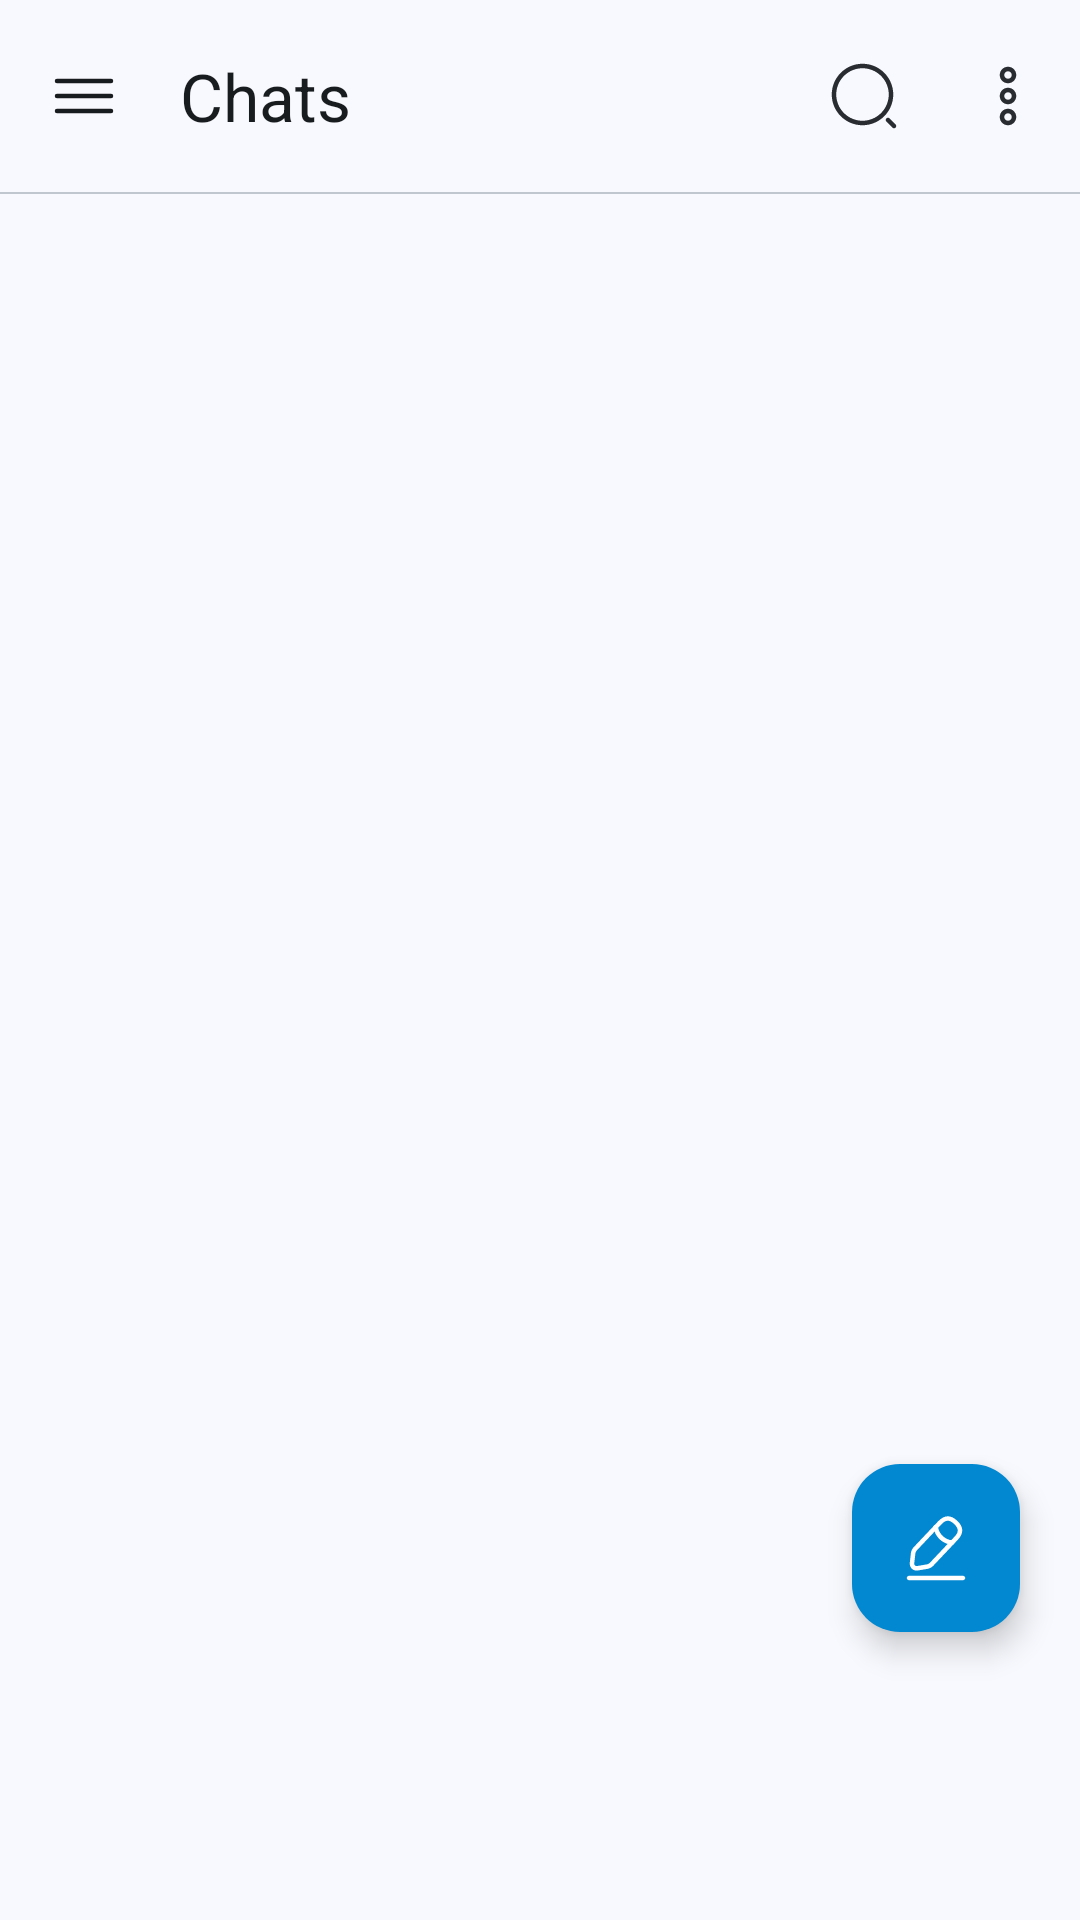

Icon bounding boxes for this 1080px×1920px phone screenshot, format (x1, y1, x2, y2):
New Message: (852, 1464, 1020, 1632)
